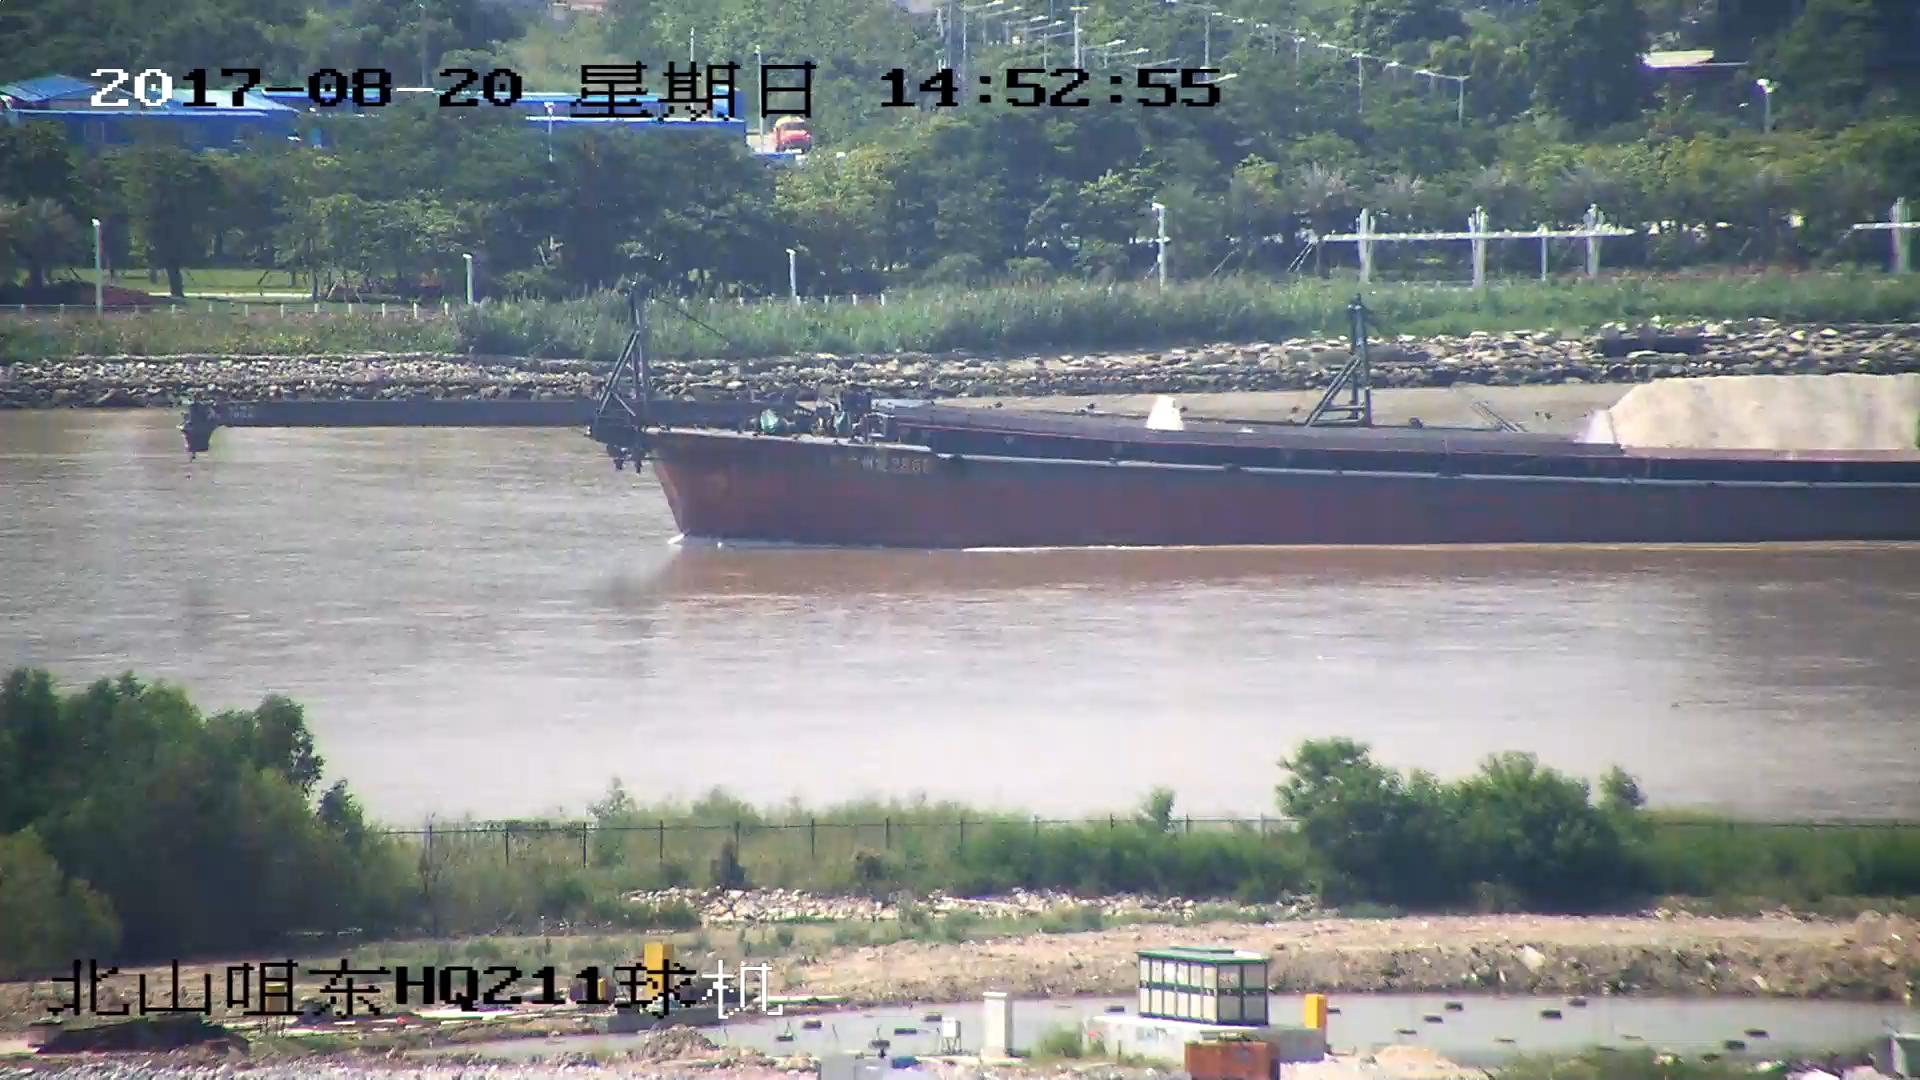bulk cargo carrier: (195, 291, 1920, 546)
ore carrier: (1093, 299, 1920, 466)
